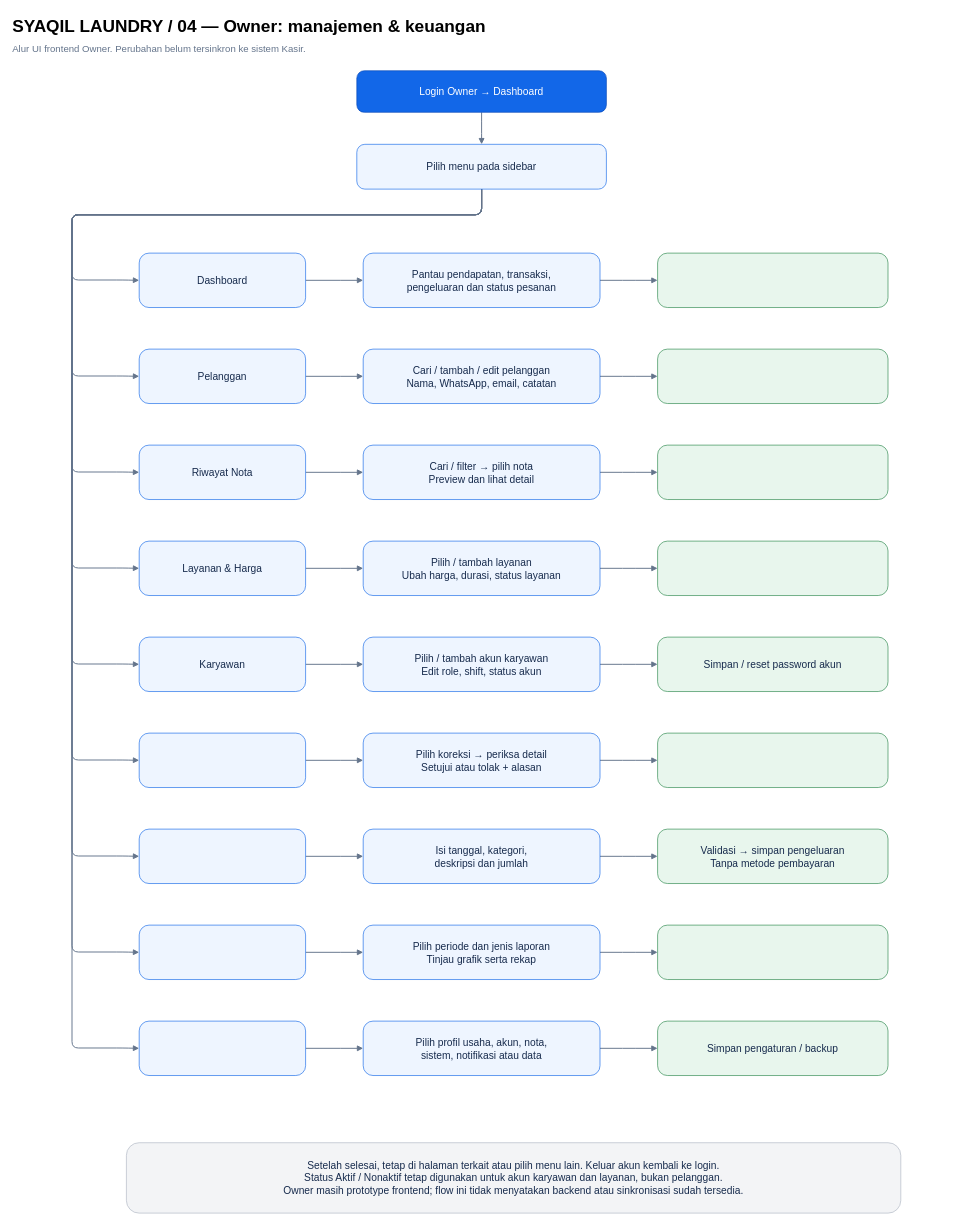
This 956x1224 diagram has some shape labels left out. The shapes that lost their labels are listed below. From the top down, each one's centre as x and y in pixels, then its label:
At pixel 772 280: "Pilih aksi cepat / menu tujuan".
At pixel 772 376: "Validasi → simpan data pelanggan".
At pixel 772 472: "Cetak ulang / unduh PDF".
At pixel 772 568: "Validasi → simpan perubahan".
At pixel 222 760: "Koreksi Transaksi".
At pixel 772 760: "Konfirmasi → status keputusan Selesai / Ditolak".
At pixel 222 856: "Pengeluaran".
At pixel 222 952: "Laporan & Analitik".
At pixel 772 952: "Export laporan".
At pixel 222 1048: "Pengaturan".
